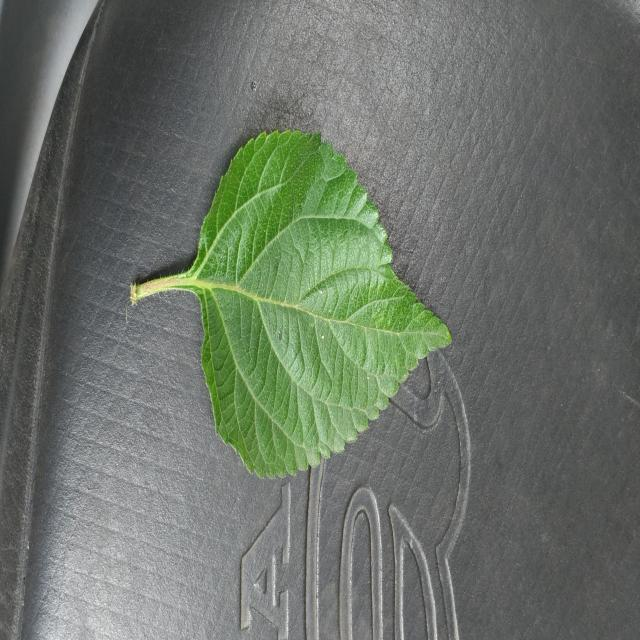Lantana: (131, 131, 450, 478)
